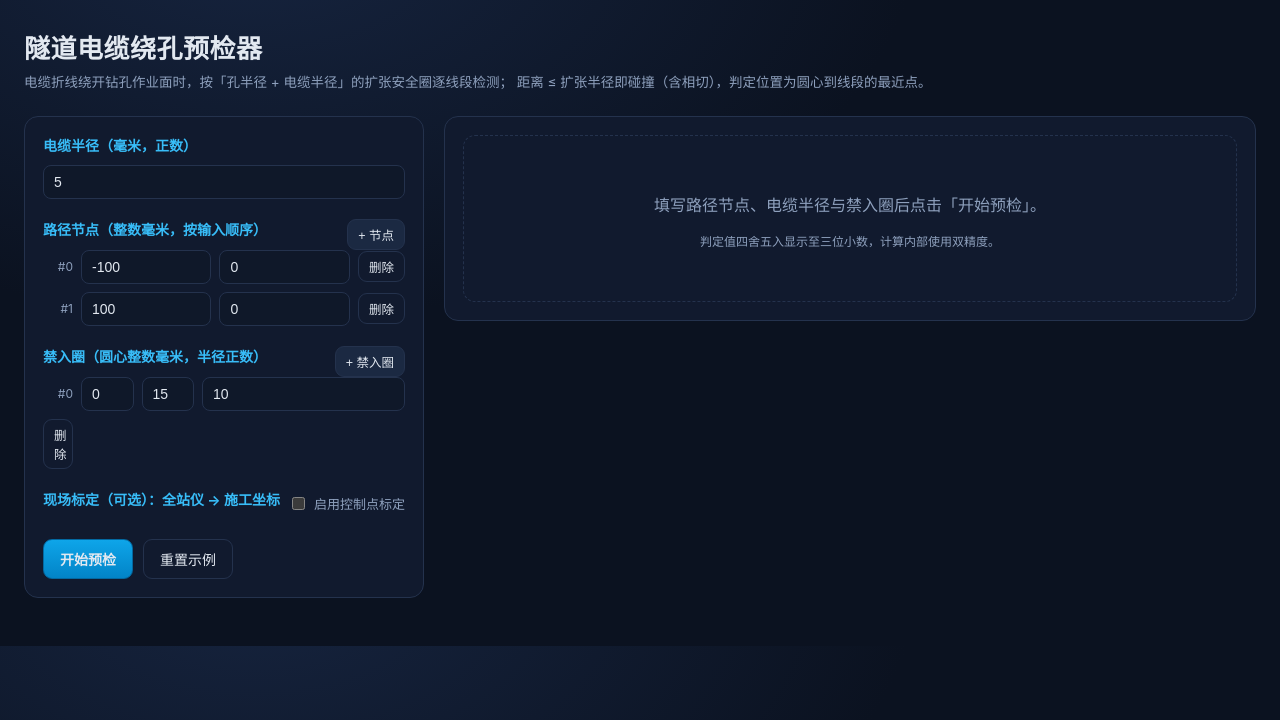
Test: 乱序（stale）响应不能恢复旧区间 › 在途请求期间重置再提交：旧请求晚于新响应返回，也不能覆盖新结论
The width and height of the screenshot is (1280, 720).
// 第一次提交（在途）
Click the button with test id "submit".
click(88, 559)  # box [43,539,133,579]
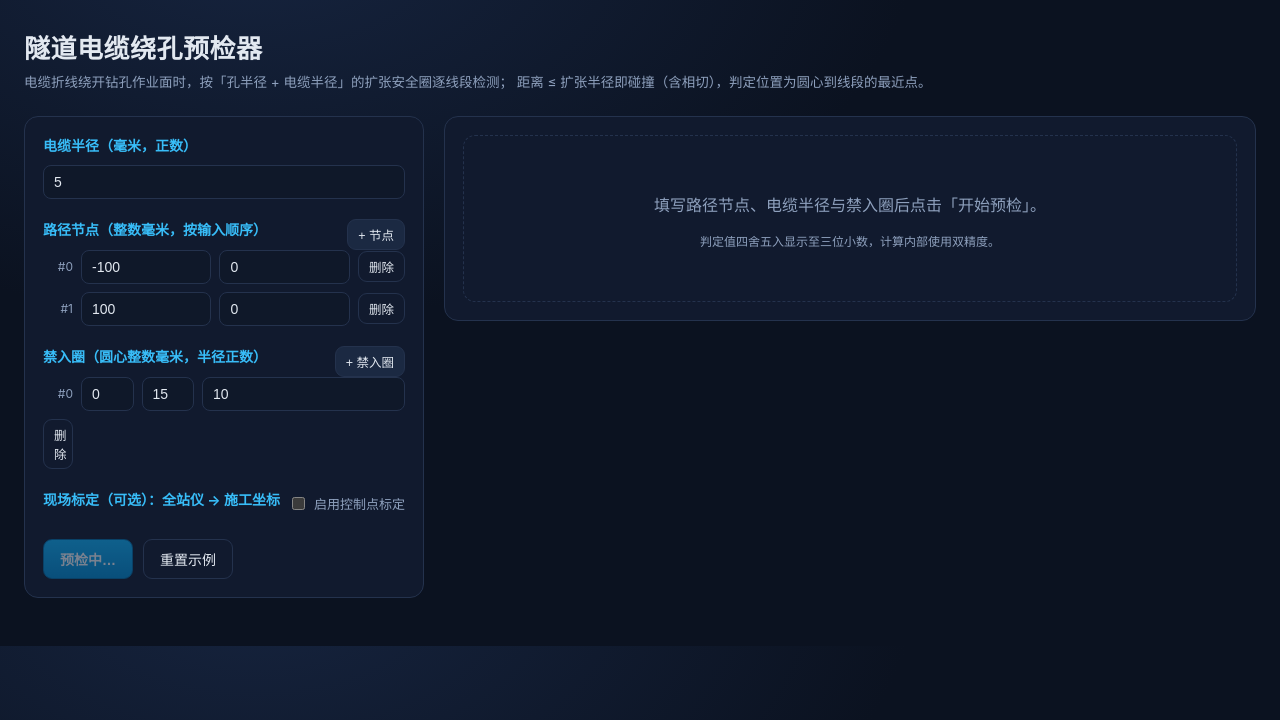
// 重置使在途请求作废，然后立即再次提交
Click the button with test id "reset".
click(188, 559)  # box [143,539,233,579]
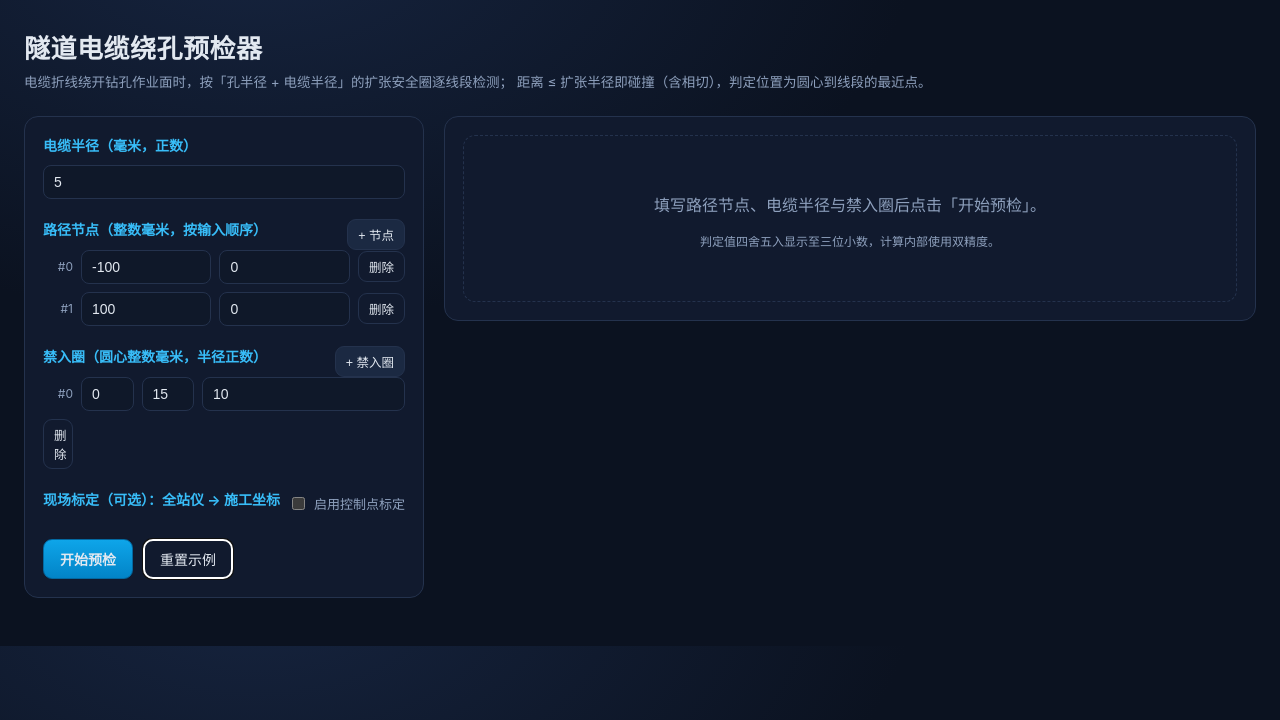
Click the button with test id "submit".
click(88, 559)  # box [43,539,133,579]
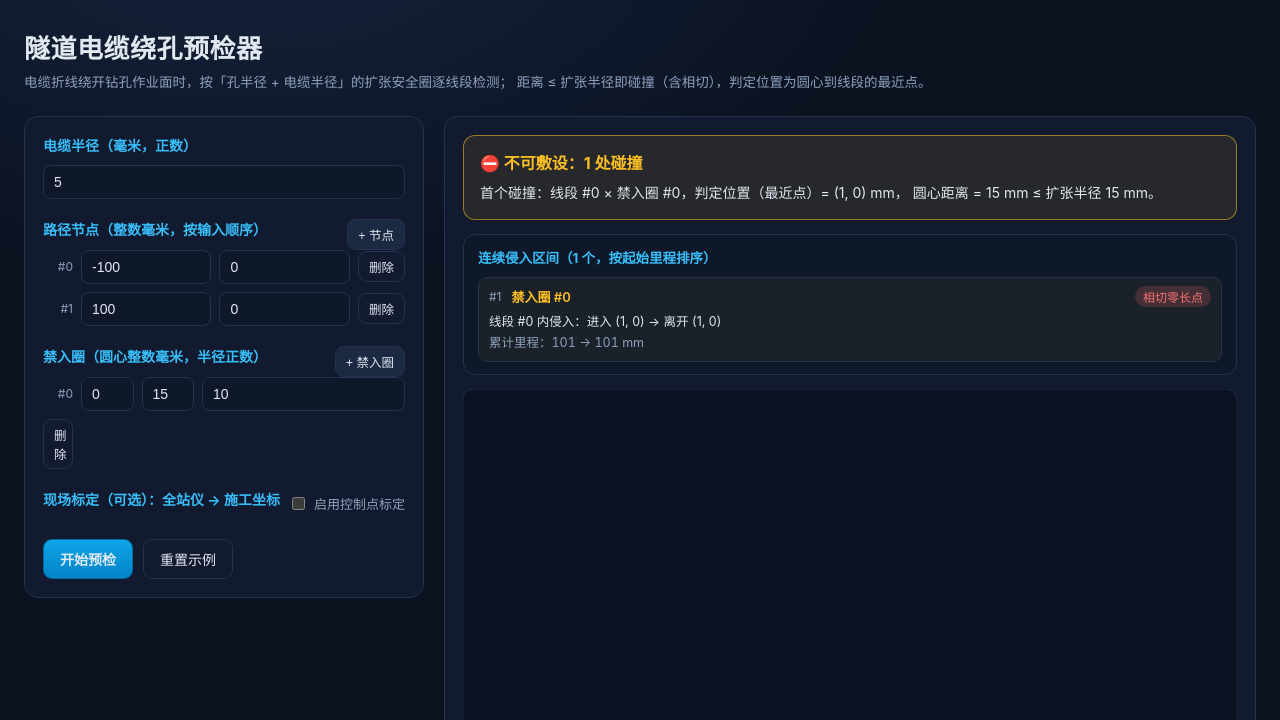
Expected: the element with test id "interval-panel" is shown, [463,234,1237,375]
Expected: the text with test id "interval-0-badge" reads "相切零长点", [1143,290,1203,305]
